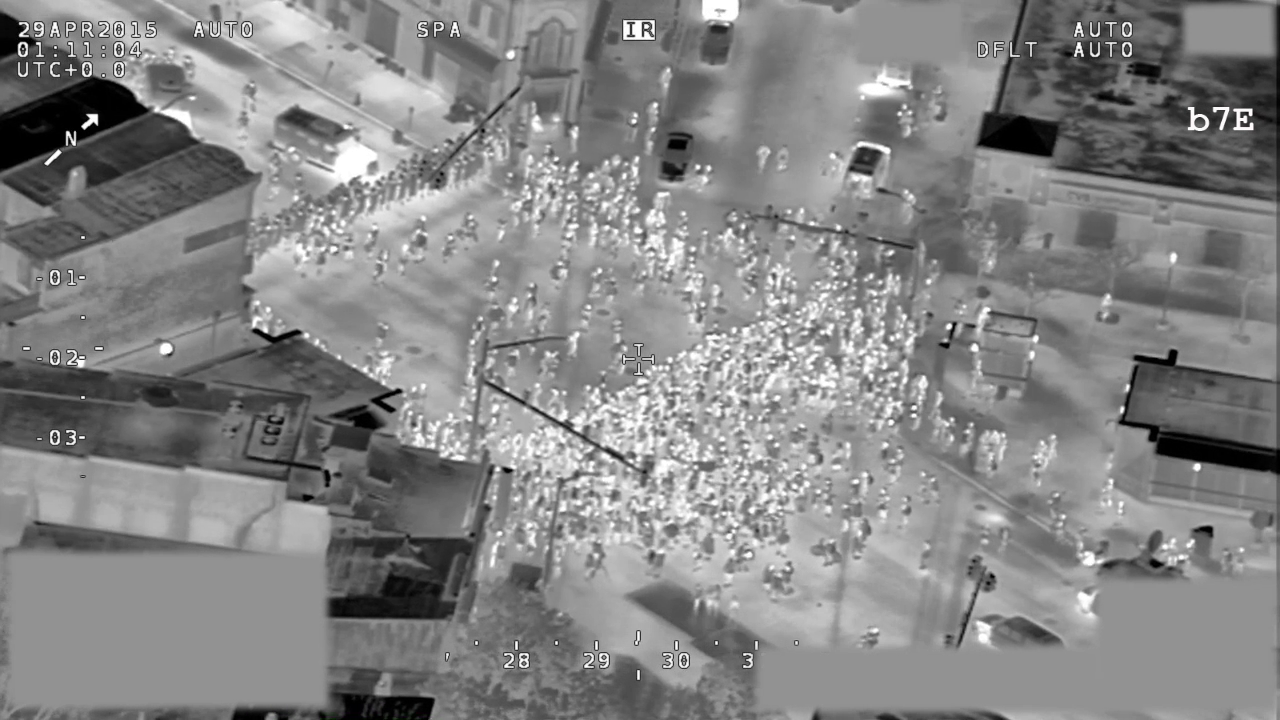vehicle: (268, 102, 383, 188), (135, 58, 200, 135), (971, 610, 1066, 648), (841, 138, 893, 201), (693, 17, 741, 68), (657, 128, 696, 183)
